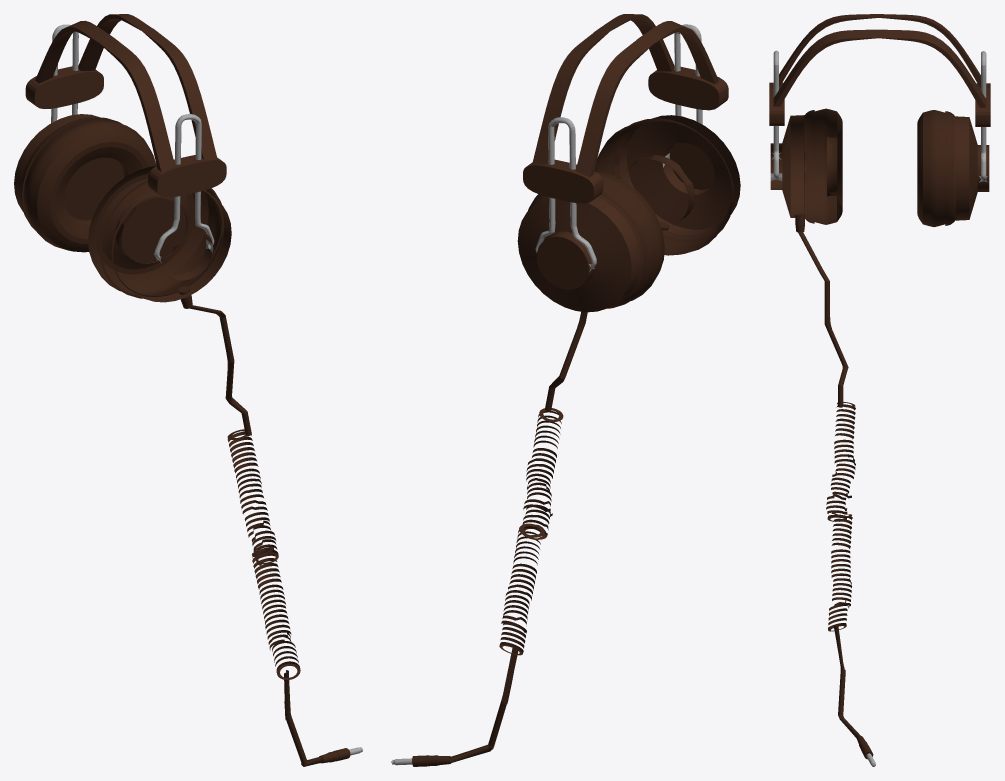
The model's file is casque.glb.
3 views of the same model, side by side, from view 1: azimuth 30°, elevation 25°; view 2: azimuth 150°, elevation 25°; view 3: azimuth 270°, elevation 25° (orthographic). The views are drawn at different scales.
Parts seen in each view (by area): view 1: casque; view 2: casque; view 3: casque.
Boxes of the visible parts, <box> form: casque: <box>14,14,362,766</box>; casque: <box>391,14,740,766</box>; casque: <box>769,14,990,766</box>.
Bounding box in the file's own units: 1.05 × 2.58 × 0.7972.
